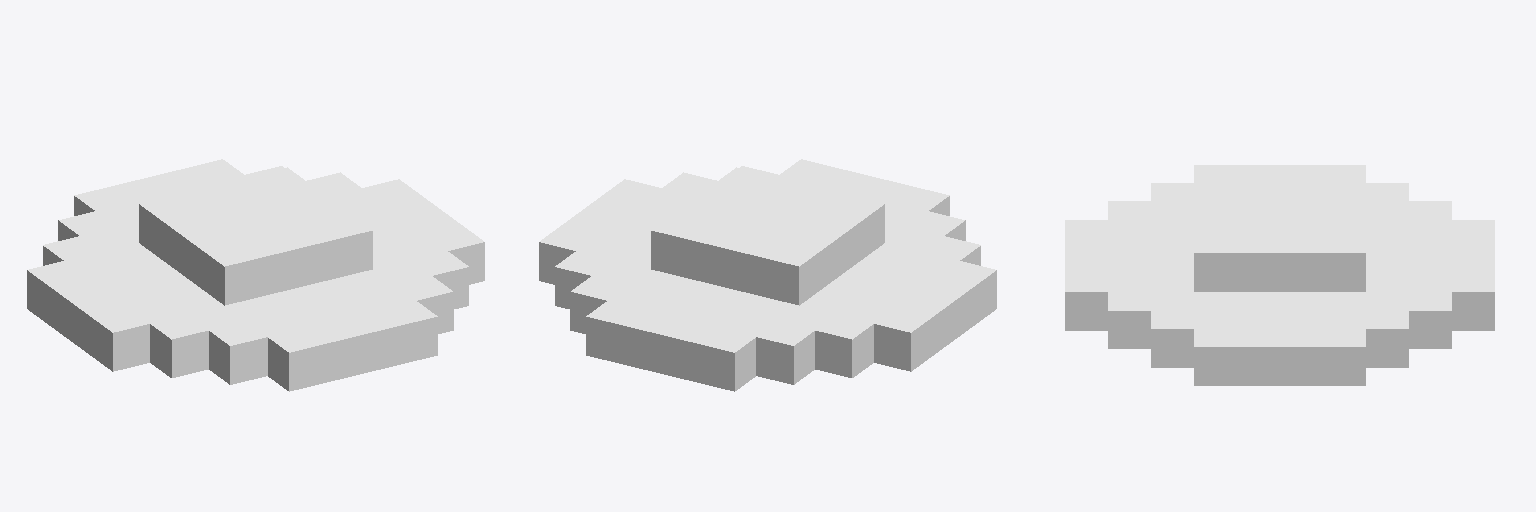
File: char-260-helm_lgt_2e_du_color.obj
3 views of the same model, side by side, from view 1: azimuth 30°, elevation 25°; view 2: azimuth 150°, elevation 25°; view 3: azimuth 270°, elevation 25° (orthographic).
Visible parts, largest first — view 1: helm_lgt_2e_du_color; view 2: helm_lgt_2e_du_color; view 3: helm_lgt_2e_du_color.
Boxes of the visible parts, x1=… form: helm_lgt_2e_du_color: x1=27, y1=159, x2=484, y2=391; helm_lgt_2e_du_color: x1=539, y1=159, x2=996, y2=391; helm_lgt_2e_du_color: x1=1065, y1=165, x2=1494, y2=385.
Size of the model in its own units: 1 by 0.2 by 1.